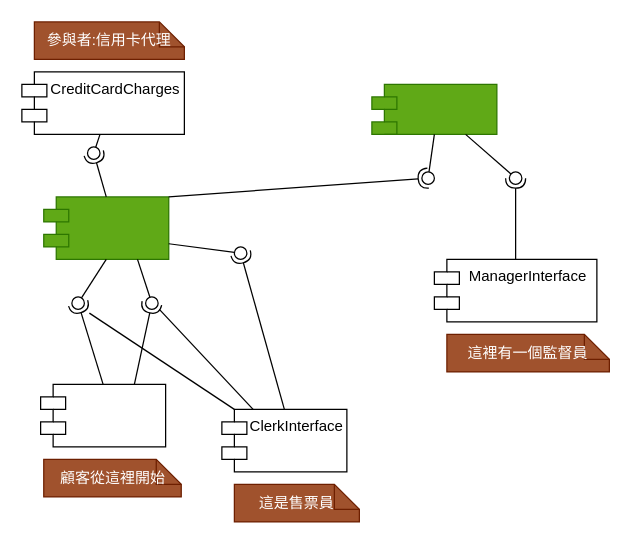
This 631x544 diagram has some shape labels left out. Here are the shapes that lost their labels. From the top down, the centre of each, then its label:
the point at 434,108: <<database>> TikerDB
the point at 105,227: TicketSeller
the point at 102,415: KioskInterface
